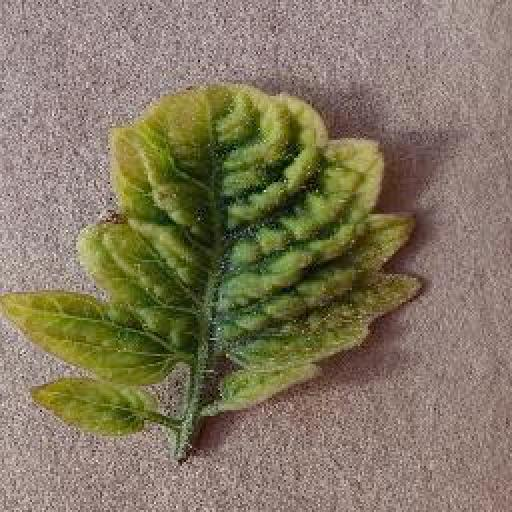disease_tomato: (0, 80, 424, 442)
